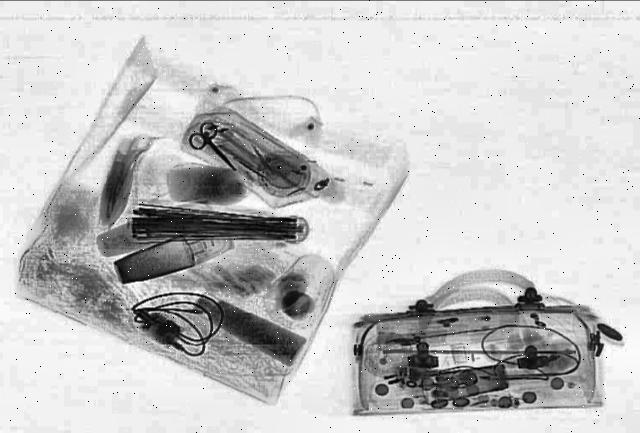Scissors: (179, 119, 253, 175)
